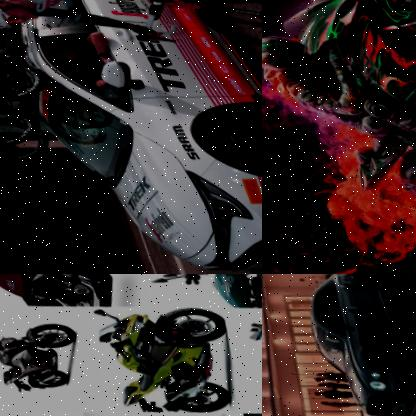bike: (283, 0, 416, 222), (90, 294, 239, 416), (0, 311, 80, 398), (0, 274, 145, 320)
car: (292, 274, 416, 416)
